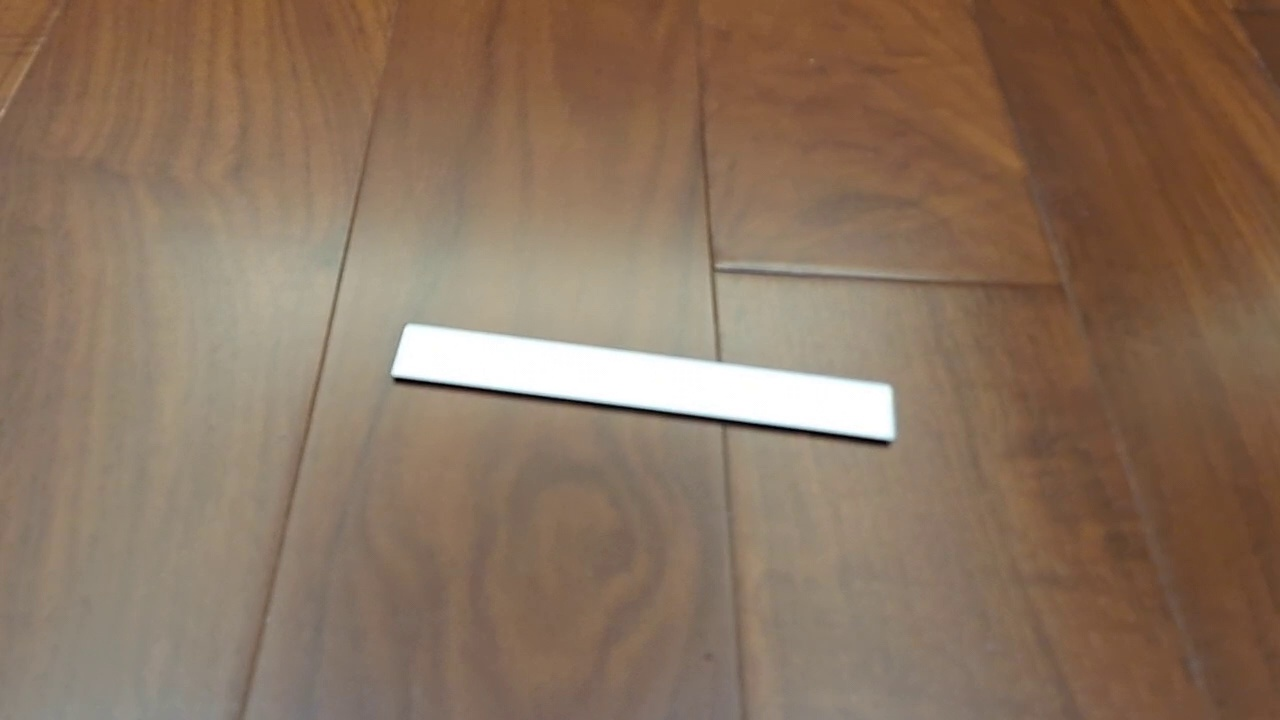ruler: (389, 321, 898, 447)
